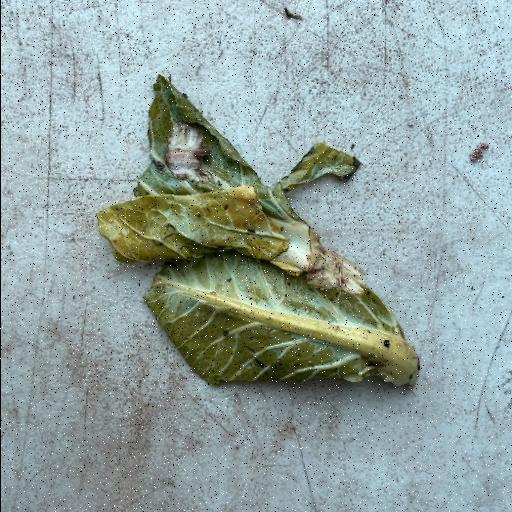Waste: (95, 72, 421, 394)
